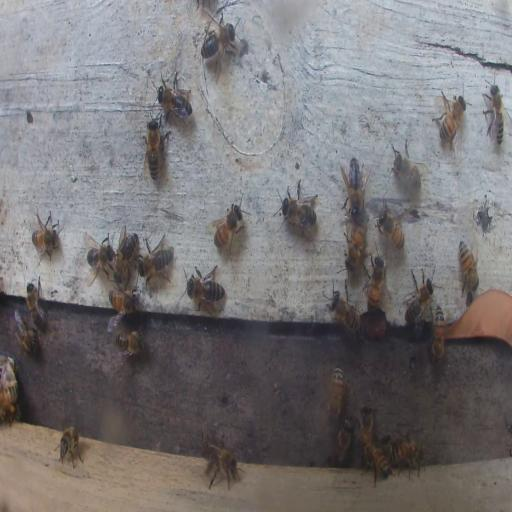nonpollenbee: (201, 14, 243, 78), (274, 184, 320, 234), (182, 263, 227, 314), (434, 89, 466, 151), (202, 442, 243, 490), (390, 138, 425, 192), (139, 235, 174, 287), (212, 202, 244, 256), (143, 113, 168, 182), (156, 76, 194, 120), (404, 270, 433, 326), (326, 289, 362, 334), (32, 208, 62, 261), (341, 155, 367, 215), (483, 83, 507, 147), (85, 230, 114, 282), (114, 225, 139, 281), (376, 199, 404, 249), (56, 425, 83, 468), (325, 364, 345, 422), (458, 240, 479, 295), (24, 276, 46, 328), (390, 439, 425, 471), (15, 310, 38, 356), (358, 403, 376, 460), (344, 221, 364, 272), (0, 362, 18, 418), (366, 444, 391, 484), (432, 303, 448, 365), (366, 255, 384, 310), (335, 416, 353, 465), (108, 287, 138, 315), (114, 330, 143, 354)
pollenbee: (0, 369, 18, 417)
